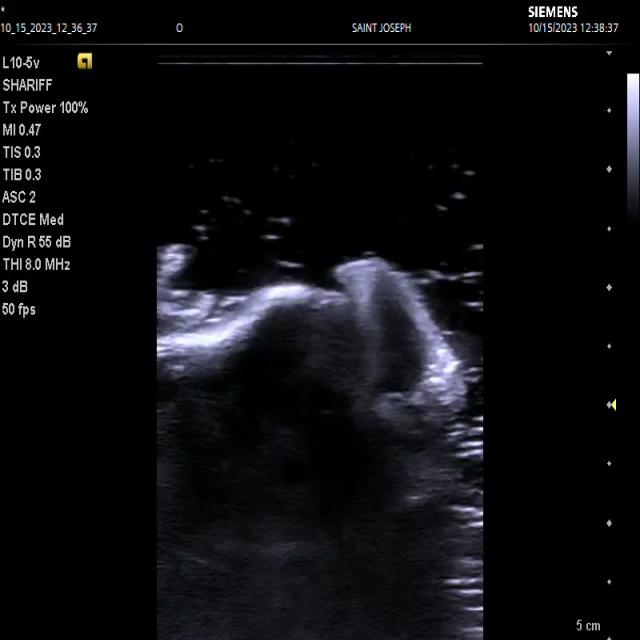tissue: (156, 237, 466, 640)
